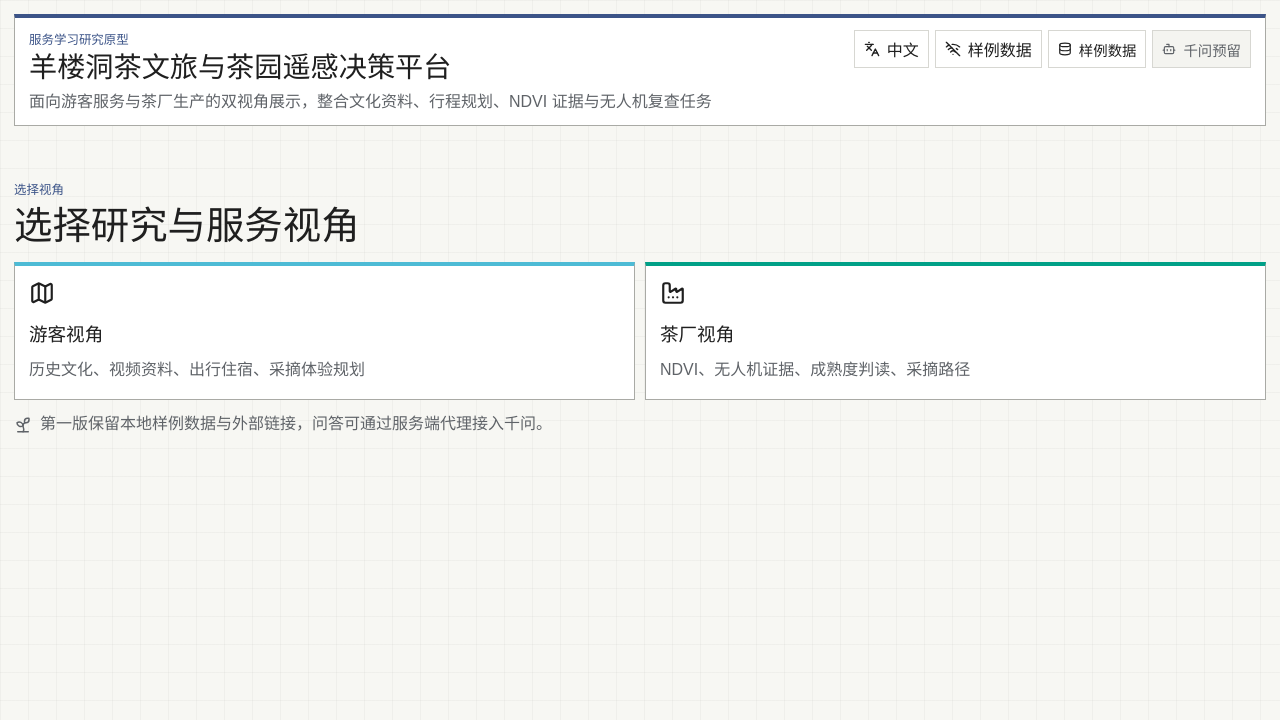
Test: App › switches visible interface text to English
Click the button with aria-label "切换到英文": click(891, 49) [854, 30, 929, 68]
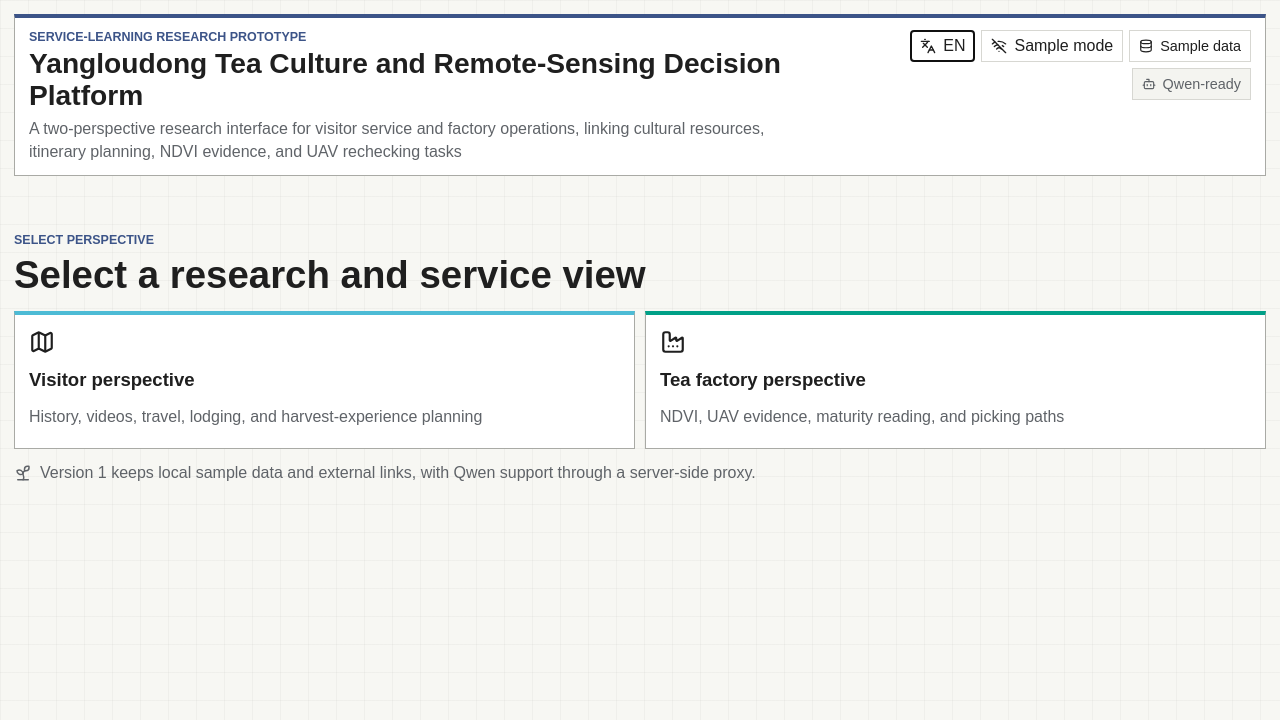
expect the button "Visitor" is shown: met, box [14, 311, 635, 449]
expect the heading "Yangloudong Tea Culture and Remote-Sensing Decision Platform" is shown: met, box [29, 48, 824, 111]
